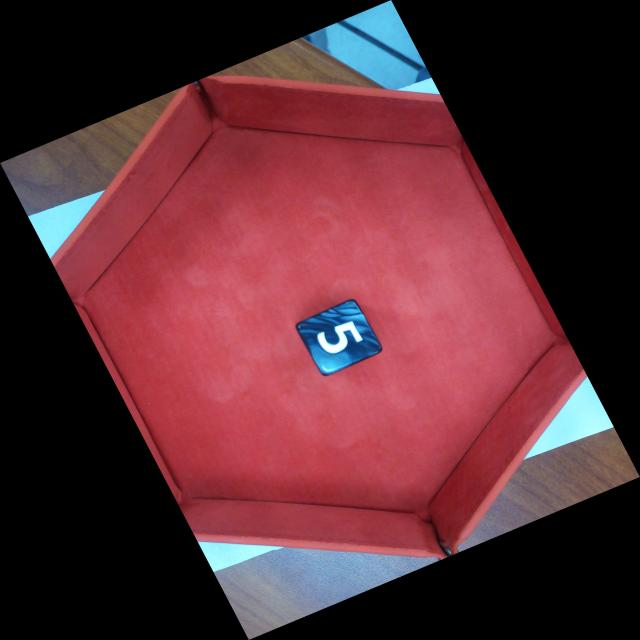dice: (295, 299, 389, 375)
